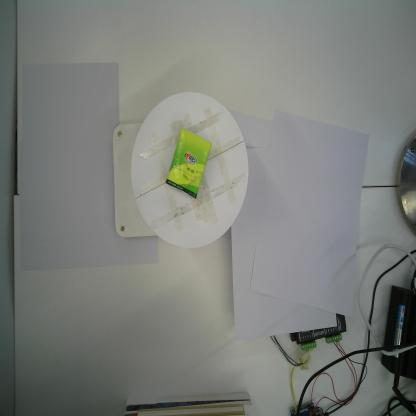Tissue: (165, 128, 212, 199)
